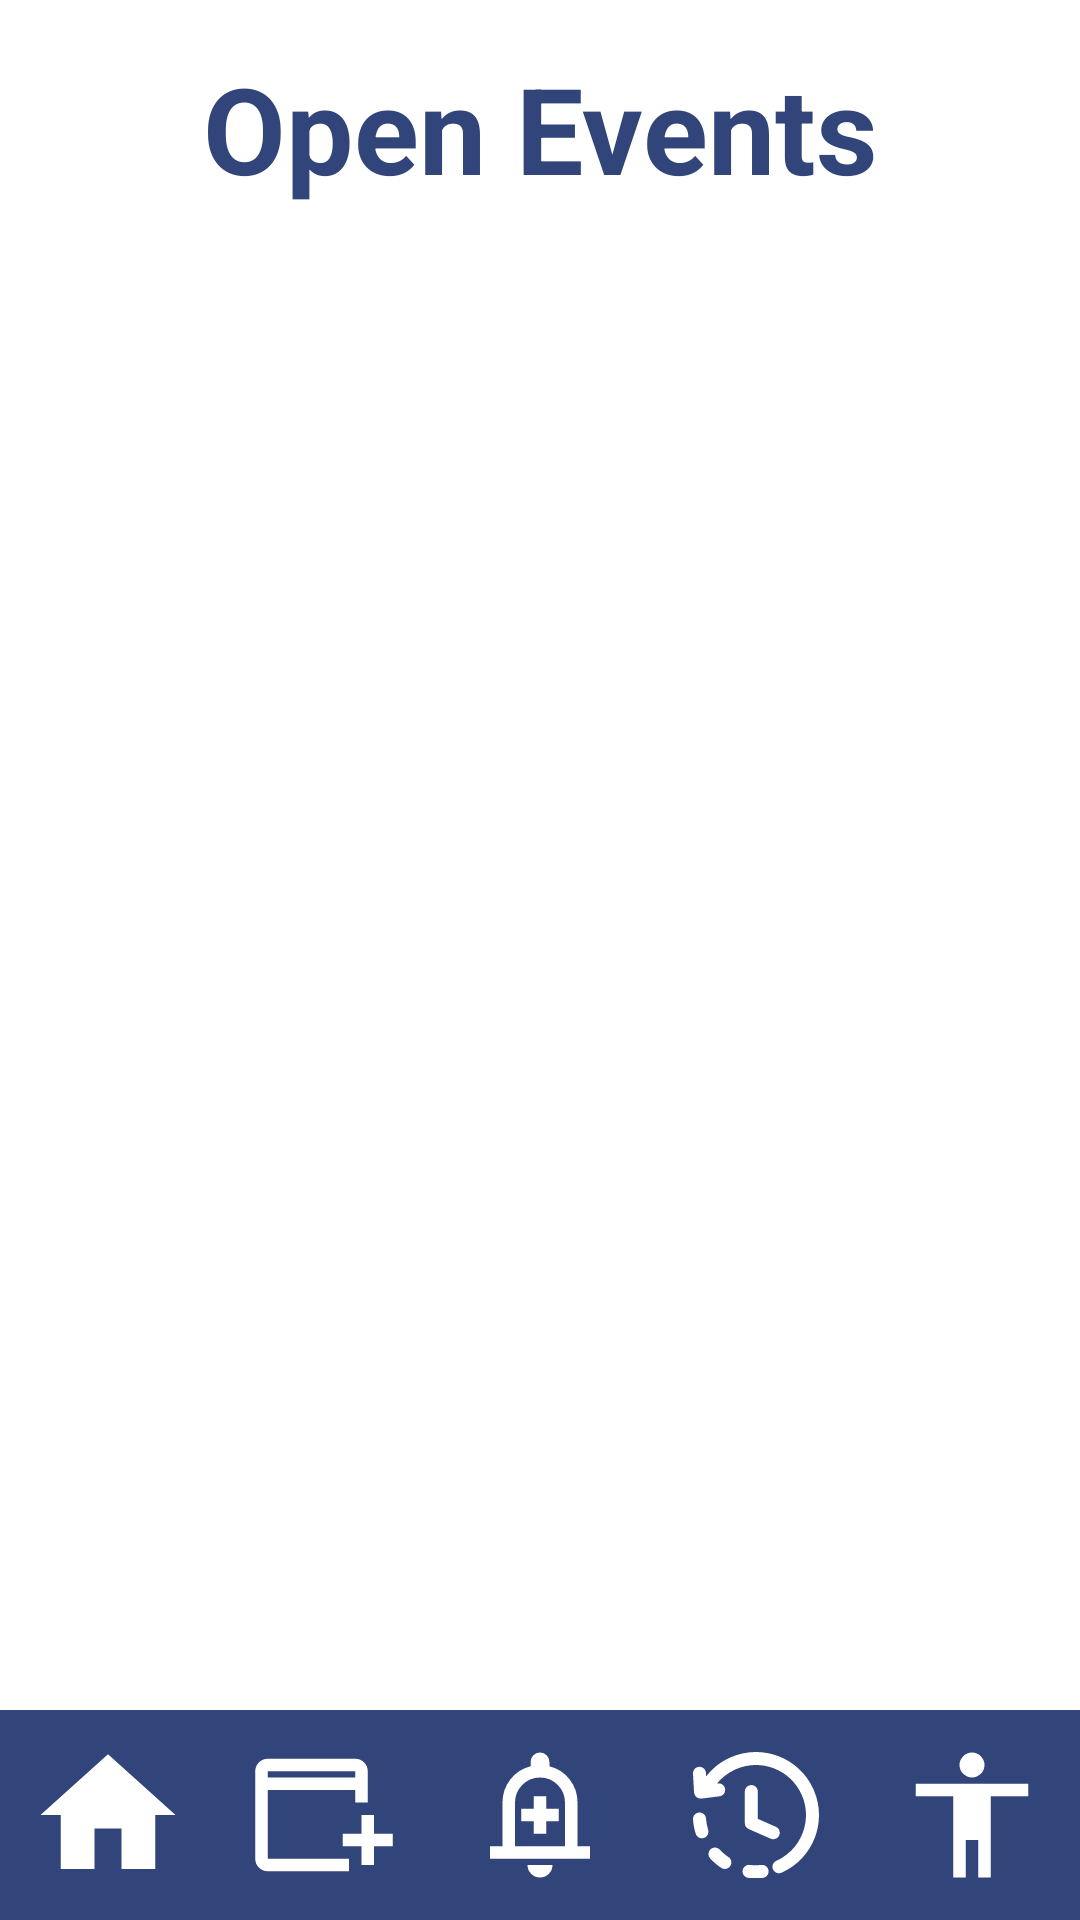

Named icons in this screenshot (1080 × 1920) and their centers, point (x, y):
event: point (324, 1815)
history: point (756, 1815)
home: point (108, 1811)
notification: point (540, 1815)
profile: point (972, 1815)
